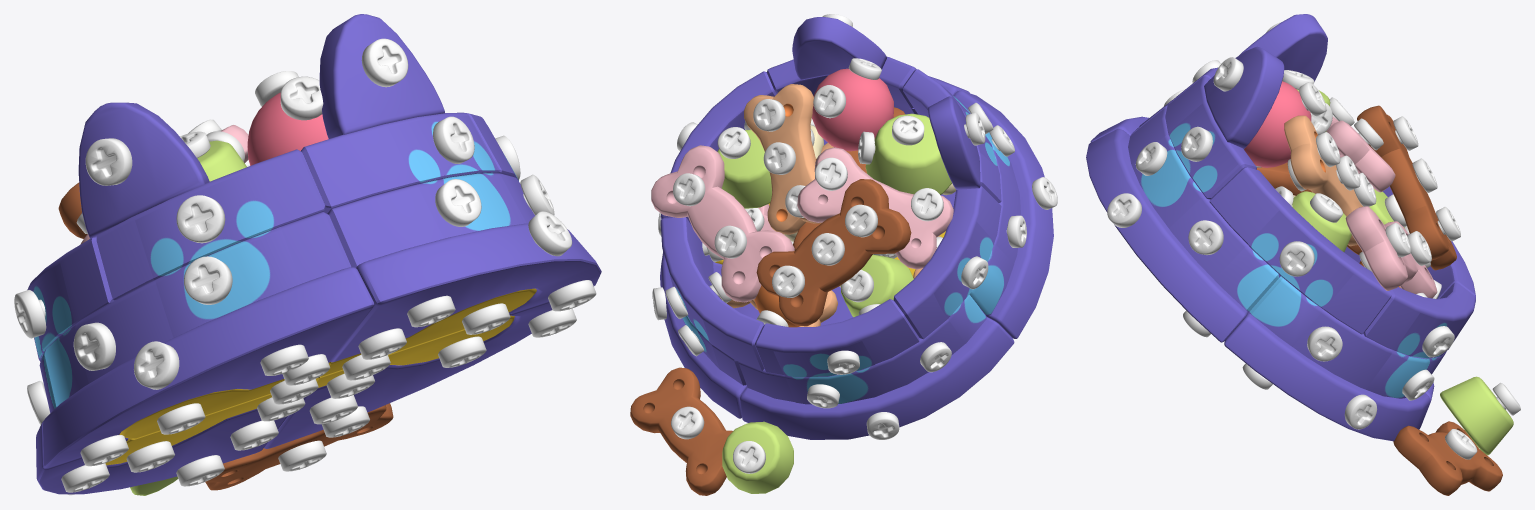
Rendered from DogBowl.fbx.
3 renders of one model, left to right at view 1: azimuth 30°, elevation 25°; view 2: azimuth 150°, elevation 25°; view 3: azimuth 270°, elevation 25°, orthographic. The views are drawn at different scales.
Parts seen in each view (by area): view 1: Screw (×35), DogBowl.011, DogBowl.016, DogBowl.010, DogBowl.020, DogBowl.041, DogBowl.007, DogBowl.044, DogBowl.006, DogBowl.013, DogBowl.009, DogBowl.042 (+9 smaller); view 2: Screw (×26), DogBowl.009, DogBowl.031, DogBowl.035, DogBowl.017, DogBowl.042, DogBowl.011, DogBowl.019, DogBowl.018, DogBowl.038, DogBowl.002, DogBowl.030 (+15 smaller); view 3: Screw (×23), DogBowl.015, DogBowl.010, DogBowl.044, DogBowl.013, DogBowl.014, DogBowl.018, DogBowl.006, DogBowl.041, DogBowl.031, DogBowl.038, DogBowl.035 (+9 smaller).
Boxes of the visible parts, x1,y1,x2,y2 form: Screw (×35): (14, 38, 596, 492); DogBowl.011: (43, 267, 374, 467); DogBowl.016: (44, 212, 351, 406); DogBowl.010: (330, 223, 601, 362); DogBowl.020: (96, 149, 325, 300); DogBowl.041: (301, 112, 499, 213); DogBowl.007: (78, 102, 209, 238); DogBowl.044: (327, 173, 534, 267); DogBowl.006: (319, 14, 444, 138); DogBowl.013: (264, 301, 552, 448); DogBowl.009: (36, 408, 287, 494); DogBowl.042: (27, 237, 115, 361); Screw (×26): (671, 58, 1057, 473); DogBowl.009: (740, 286, 1014, 439); DogBowl.031: (756, 179, 911, 326); DogBowl.035: (651, 145, 794, 302); DogBowl.017: (755, 299, 919, 376); DogBowl.042: (893, 185, 1001, 339); DogBowl.011: (940, 90, 1053, 338); DogBowl.019: (738, 294, 986, 404); DogBowl.018: (660, 217, 764, 370); DogBowl.038: (630, 367, 732, 495); DogBowl.002: (744, 84, 821, 234); DogBowl.030: (797, 147, 953, 269); Screw (×23): (1107, 57, 1520, 459); DogBowl.015: (1209, 167, 1391, 334); DogBowl.010: (1086, 129, 1247, 342); DogBowl.044: (1128, 108, 1280, 311); DogBowl.013: (1224, 312, 1430, 441); DogBowl.014: (1248, 276, 1445, 398); DogBowl.018: (1363, 283, 1475, 358); DogBowl.006: (1204, 46, 1284, 148); DogBowl.041: (1165, 76, 1256, 199); DogBowl.031: (1357, 105, 1456, 270); DogBowl.038: (1393, 421, 1502, 495); DogBowl.035: (1345, 206, 1437, 298).
Bounding box in the file's own units: 9.58 × 10.39 × 9.5.
Materials: 3 (2 with a texture image).
